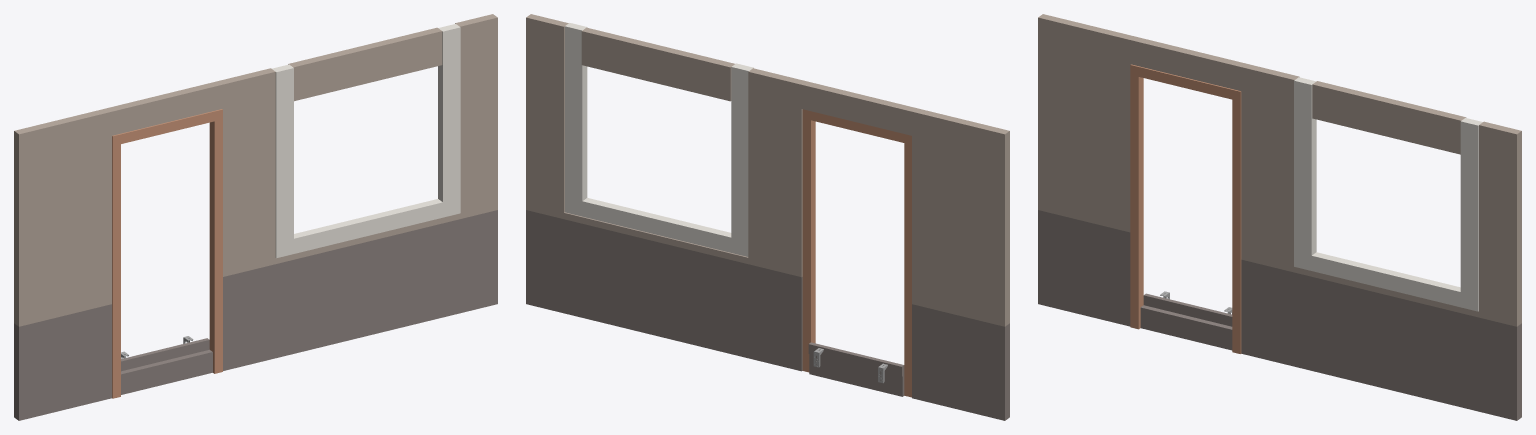
The picture shows the model from 3 angles, left to right: view 1: azimuth 30°, elevation 25°; view 2: azimuth 150°, elevation 25°; view 3: azimuth 330°, elevation 25°; orthographic projection.
Visible parts, largest first — view 1: [6469698]21_Metselwerk Sonsbeek 100mm, Aberson 48N13, [6469722]21_Metselwerk Hadsund 100mm, Aberson 48N45, [6469721]21_Metselwerk Hadsund 100mm, Aberson 48N45, [6469728]21_Metselwerk Sonsbeek 100 mm, Aberson 48N13, [6469725]21_Metselwerk Wit HV WF 100mm, Aberson 35N17, [6469726]21_Metselwerk Wit HV WF 100mm, Aberson 35N17 Rollaa, [6469715]21_Metselwerk Storvik 100mm, Aberson 48N20, [6469727]21_Metselwerk Wit HV WF 100mm, Aberson 35N17, [6469714]21_Metselwerk Storvik 100mm, Aberson 48N20, [7278276]21_Metselwerk Hadsund 100mm, Aberson 48N45, [6469720]21_Metselwerk Storvik 100mm, Aberson 48N20 Rollaag, [7278277]21_Metselwerk Hadsund 50mm, Aberson 48N45 Klamp gem; view 2: [6469698]21_Metselwerk Sonsbeek 100mm, Aberson 48N13, [6469722]21_Metselwerk Hadsund 100mm, Aberson 48N45, [6469721]21_Metselwerk Hadsund 100mm, Aberson 48N45, [6469728]21_Metselwerk Sonsbeek 100 mm, Aberson 48N13, [6469725]21_Metselwerk Wit HV WF 100mm, Aberson 35N17, [6469726]21_Metselwerk Wit HV WF 100mm, Aberson 35N17 Rollaa, [6469715]21_Metselwerk Storvik 100mm, Aberson 48N20, [6469727]21_Metselwerk Wit HV WF 100mm, Aberson 35N17, [6469714]21_Metselwerk Storvik 100mm, Aberson 48N20, [7278276]21_Metselwerk Hadsund 100mm, Aberson 48N45, [7278277]21_Metselwerk Hadsund 50mm, Aberson 48N45 Klamp gem, [6469720]21_Metselwerk Storvik 100mm, Aberson 48N20 Rollaag; view 3: [6469698]21_Metselwerk Sonsbeek 100mm, Aberson 48N13, [6469722]21_Metselwerk Hadsund 100mm, Aberson 48N45, [6469721]21_Metselwerk Hadsund 100mm, Aberson 48N45, [6469728]21_Metselwerk Sonsbeek 100 mm, Aberson 48N13, [6469727]21_Metselwerk Wit HV WF 100mm, Aberson 35N17, [6469726]21_Metselwerk Wit HV WF 100mm, Aberson 35N17 Rollaa, [6469714]21_Metselwerk Storvik 100mm, Aberson 48N20, [6469725]21_Metselwerk Wit HV WF 100mm, Aberson 35N17, [6469715]21_Metselwerk Storvik 100mm, Aberson 48N20, [7278276]21_Metselwerk Hadsund 100mm, Aberson 48N45, [6469720]21_Metselwerk Storvik 100mm, Aberson 48N20 Rollaag, [7278277]21_Metselwerk Hadsund 50mm, Aberson 48N45 Klamp gem.
Boxes of the visible parts, x1,y1,x2,y2 form: [6469698]21_Metselwerk Sonsbeek 100mm, Aberson 48N13: [14, 14, 497, 326]; [6469722]21_Metselwerk Hadsund 100mm, Aberson 48N45: [223, 210, 497, 370]; [6469721]21_Metselwerk Hadsund 100mm, Aberson 48N45: [14, 304, 111, 420]; [6469728]21_Metselwerk Sonsbeek 100 mm, Aberson 48N13: [288, 27, 442, 101]; [6469725]21_Metselwerk Wit HV WF 100mm, Aberson 35N17: [438, 24, 460, 202]; [6469726]21_Metselwerk Wit HV WF 100mm, Aberson 35N17 Rollaa: [275, 198, 460, 258]; [6469715]21_Metselwerk Storvik 100mm, Aberson 48N20: [209, 119, 222, 373]; [6469727]21_Metselwerk Wit HV WF 100mm, Aberson 35N17: [272, 64, 293, 242]; [6469714]21_Metselwerk Storvik 100mm, Aberson 48N20: [112, 144, 120, 398]; [7278276]21_Metselwerk Hadsund 100mm, Aberson 48N45: [121, 349, 212, 394]; [6469720]21_Metselwerk Storvik 100mm, Aberson 48N20 Rollaag: [112, 109, 222, 145]; [7278277]21_Metselwerk Hadsund 50mm, Aberson 48N45 Klamp gem: [121, 338, 209, 371]; [6469698]21_Metselwerk Sonsbeek 100mm, Aberson 48N13: [526, 14, 1009, 326]; [6469722]21_Metselwerk Hadsund 100mm, Aberson 48N45: [526, 210, 802, 371]; [6469721]21_Metselwerk Hadsund 100mm, Aberson 48N45: [912, 304, 1009, 420]; [6469728]21_Metselwerk Sonsbeek 100 mm, Aberson 48N13: [581, 27, 734, 101]; [6469725]21_Metselwerk Wit HV WF 100mm, Aberson 35N17: [565, 23, 587, 201]; [6469726]21_Metselwerk Wit HV WF 100mm, Aberson 35N17 Rollaa: [565, 197, 748, 256]; [6469715]21_Metselwerk Storvik 100mm, Aberson 48N20: [802, 118, 815, 372]; [6469727]21_Metselwerk Wit HV WF 100mm, Aberson 35N17: [731, 63, 753, 241]; [6469714]21_Metselwerk Storvik 100mm, Aberson 48N20: [904, 143, 911, 397]; [7278276]21_Metselwerk Hadsund 100mm, Aberson 48N45: [809, 354, 904, 396]; [7278277]21_Metselwerk Hadsund 50mm, Aberson 48N45 Klamp gem: [808, 342, 904, 376]; [6469720]21_Metselwerk Storvik 100mm, Aberson 48N20 Rollaag: [802, 109, 911, 144]; [6469698]21_Metselwerk Sonsbeek 100mm, Aberson 48N13: [1038, 14, 1521, 326]; [6469722]21_Metselwerk Hadsund 100mm, Aberson 48N45: [1241, 259, 1521, 420]; [6469721]21_Metselwerk Hadsund 100mm, Aberson 48N45: [1038, 210, 1130, 326]; [6469728]21_Metselwerk Sonsbeek 100 mm, Aberson 48N13: [1312, 81, 1466, 154]; [6469727]21_Metselwerk Wit HV WF 100mm, Aberson 35N17: [1294, 77, 1316, 255]; [6469726]21_Metselwerk Wit HV WF 100mm, Aberson 35N17 Rollaa: [1294, 251, 1478, 311]; [6469714]21_Metselwerk Storvik 100mm, Aberson 48N20: [1130, 75, 1143, 329]; [6469725]21_Metselwerk Wit HV WF 100mm, Aberson 35N17: [1460, 118, 1482, 296]; [6469715]21_Metselwerk Storvik 100mm, Aberson 48N20: [1232, 99, 1241, 353]; [7278276]21_Metselwerk Hadsund 100mm, Aberson 48N45: [1140, 305, 1232, 350]; [6469720]21_Metselwerk Storvik 100mm, Aberson 48N20 Rollaag: [1130, 64, 1241, 101]; [7278277]21_Metselwerk Hadsund 50mm, Aberson 48N45 Klamp gem: [1143, 293, 1232, 326].
Bounding box in the file's own units: 5.7 × 3.26 × 0.285.
